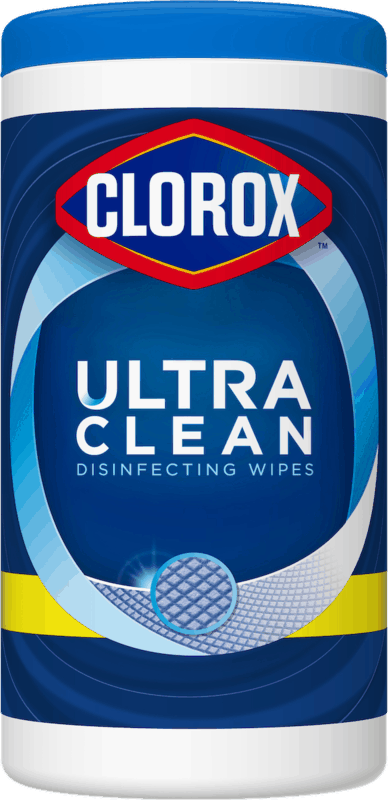Wipes: (1, 5, 387, 800)
